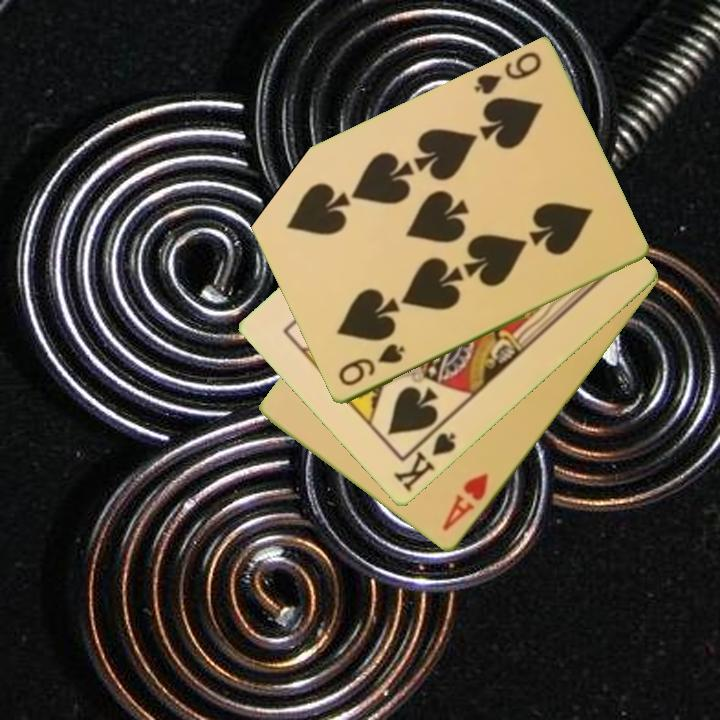9s: (334, 340, 408, 390), (470, 49, 545, 98)
Ah: (439, 470, 492, 535)
Ks: (390, 420, 459, 496)
